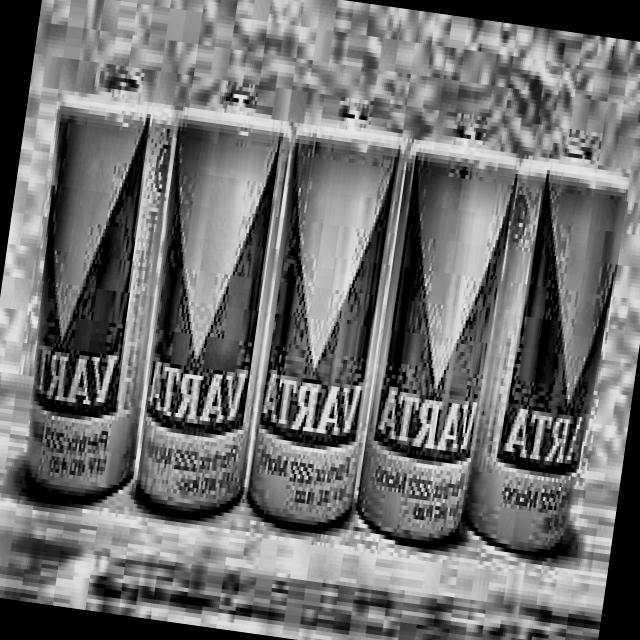Battery: (125, 73, 298, 530), (7, 61, 182, 511), (460, 120, 636, 562), (242, 92, 414, 536), (353, 106, 520, 550)
